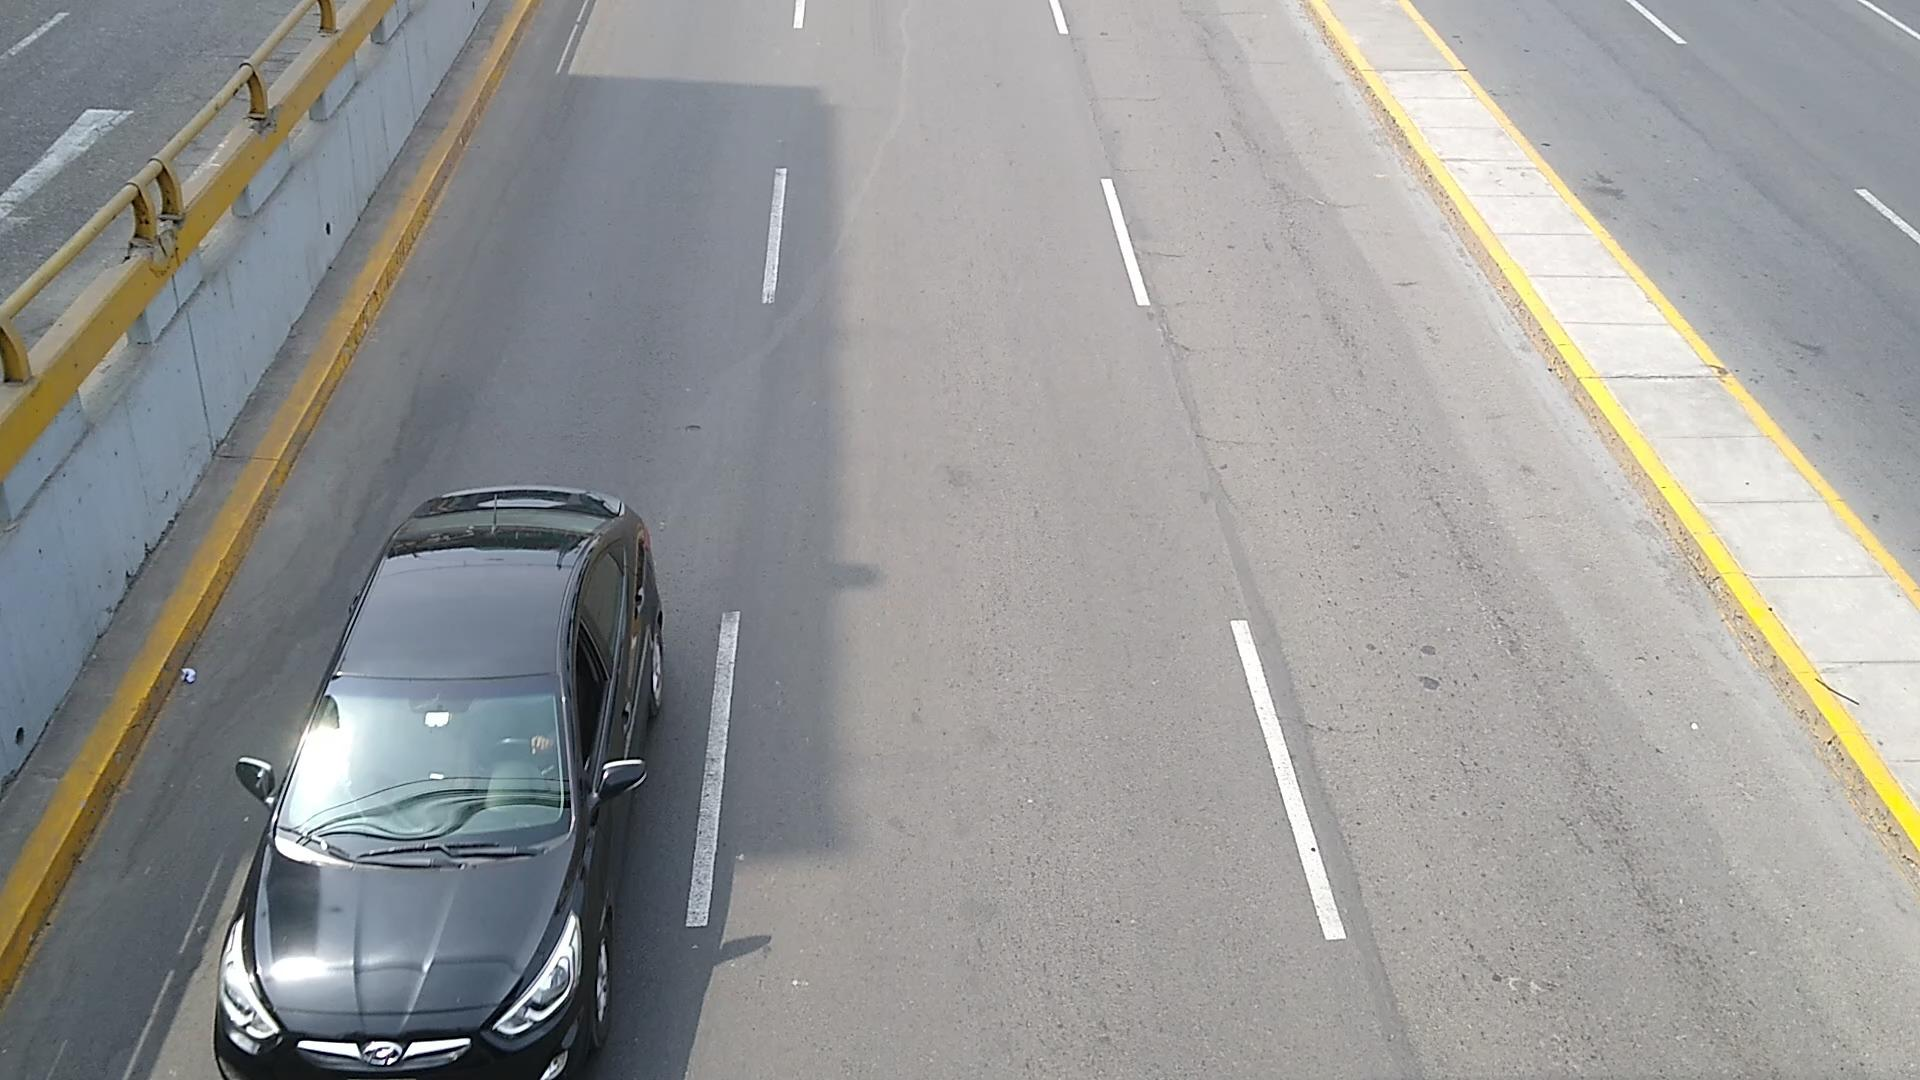car: (214, 488, 663, 1080)
